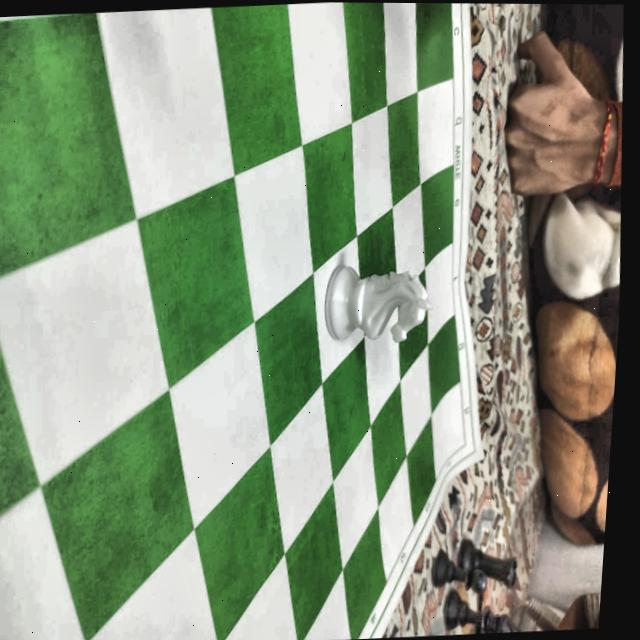WhiteKnight: (319, 257, 436, 348)
